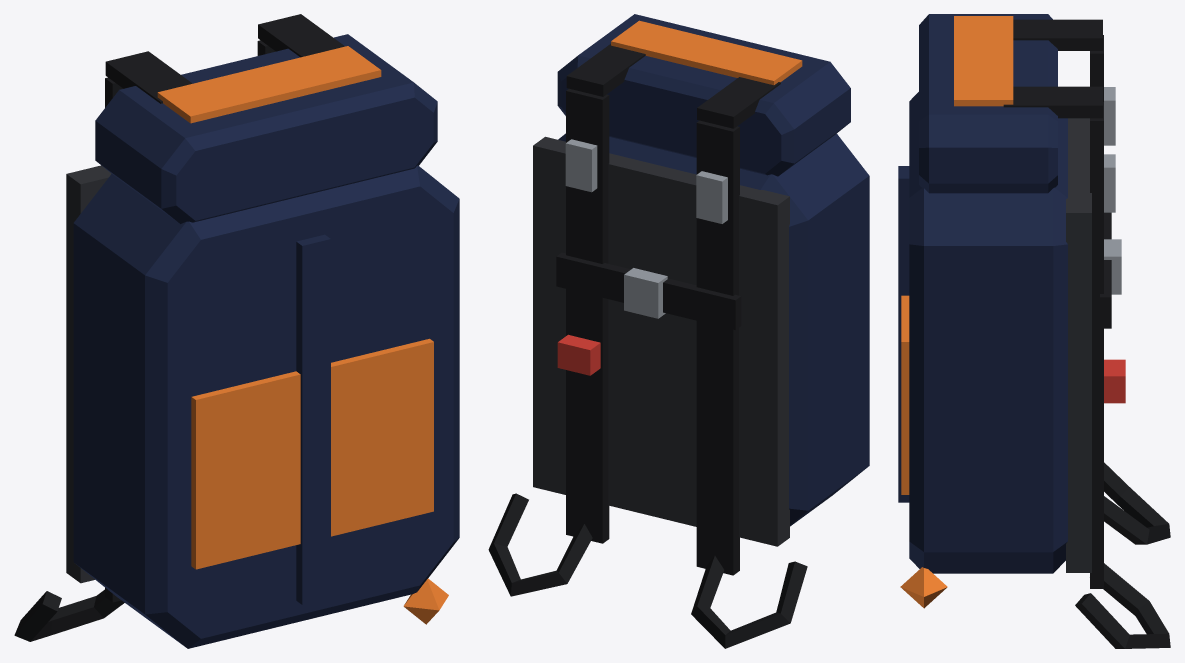
The model's file is pickup_parachute.glb.
3 renders of one model, left to right at view 1: azimuth 30°, elevation 25°; view 2: azimuth 150°, elevation 25°; view 3: azimuth 270°, elevation 25°, orthographic. The views are drawn at different scales.
Parts seen in each view (by area): view 1: pickup_parachute__body; view 2: pickup_parachute__body; view 3: pickup_parachute__body.
Part boxes in pixels (x1,y1,x2,y2): pickup_parachute__body: (14,14,459,648); pickup_parachute__body: (488,14,869,648); pickup_parachute__body: (898,14,1170,648).
Size of the model in its own units: 0.3705 by 0.5955 by 0.2744.
Materials: 1 (1 with a texture image).
